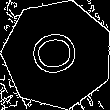O_E: (28, 29, 87, 80)
